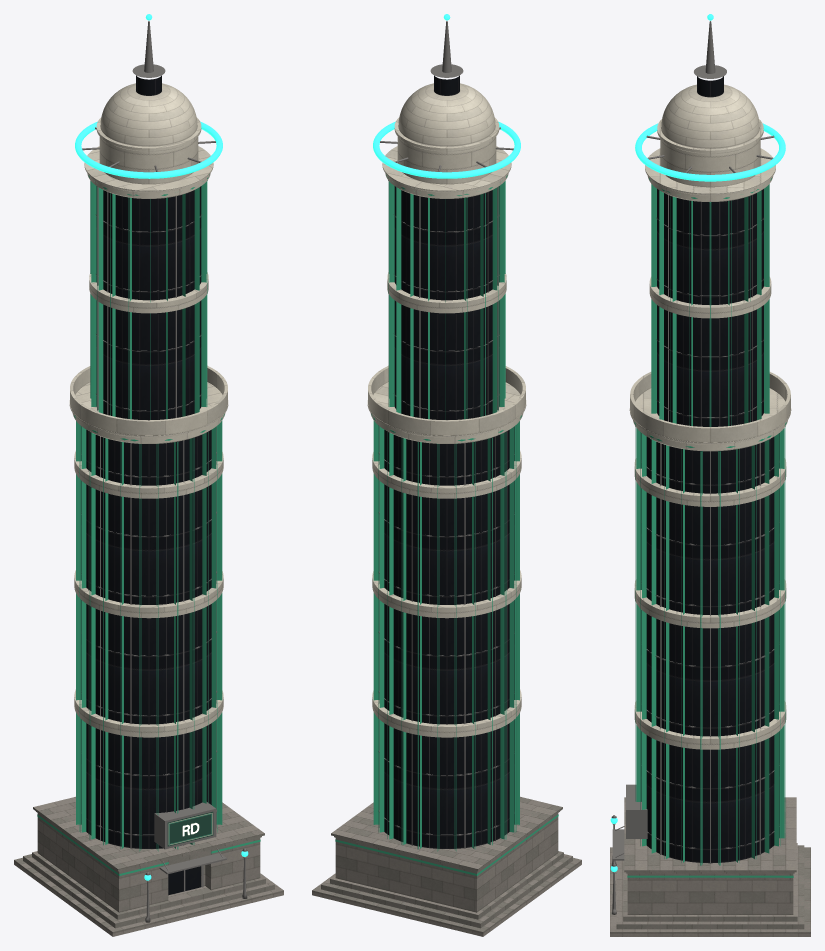
File: robotics-dao.glb
3 renders of one model, left to right at view 1: azimuth 30°, elevation 25°; view 2: azimuth 150°, elevation 25°; view 3: azimuth 270°, elevation 25°, orthographic.
Parts seen in each view (by area): view 1: Landmark · Robotics DAO; view 2: Landmark · Robotics DAO; view 3: Landmark · Robotics DAO.
Part boxes in pixels (x1,y1,x2,y2): Landmark · Robotics DAO: (14, 14, 283, 936); Landmark · Robotics DAO: (312, 14, 581, 936); Landmark · Robotics DAO: (610, 14, 810, 936).
Bounding box in the file's own units: 12 × 58 × 12.
7 materials, 4 textured.
